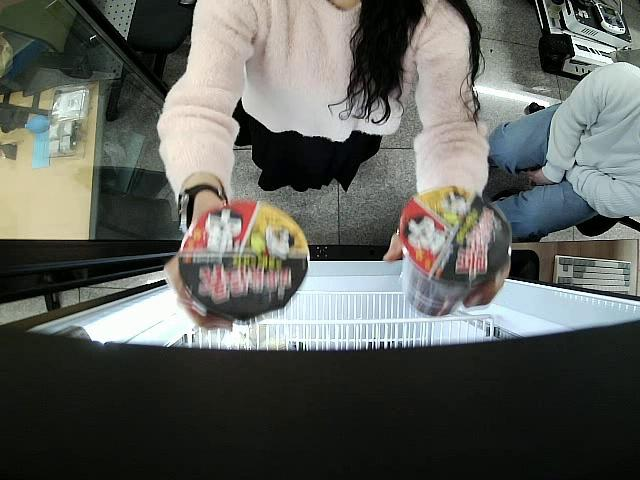00_hand: (383, 226, 512, 311), (163, 201, 233, 331)
08_buldak_S: (180, 199, 310, 319), (399, 185, 511, 320)
